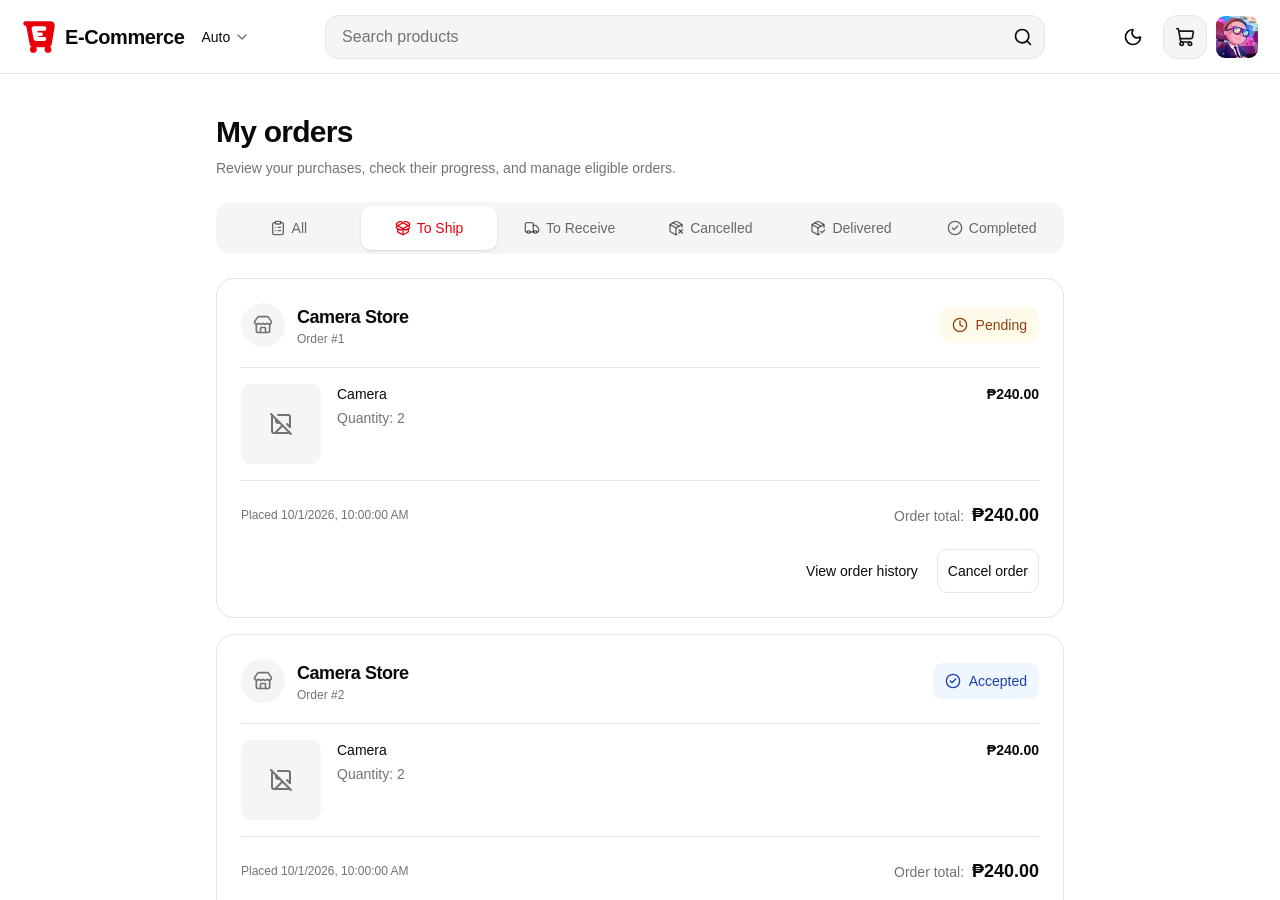
Scenario: cancellation requires confirmation, updates history and preserves order on dismiss
Click the button "Cancel order".
click(988, 571)  # box [937, 549, 1039, 593]
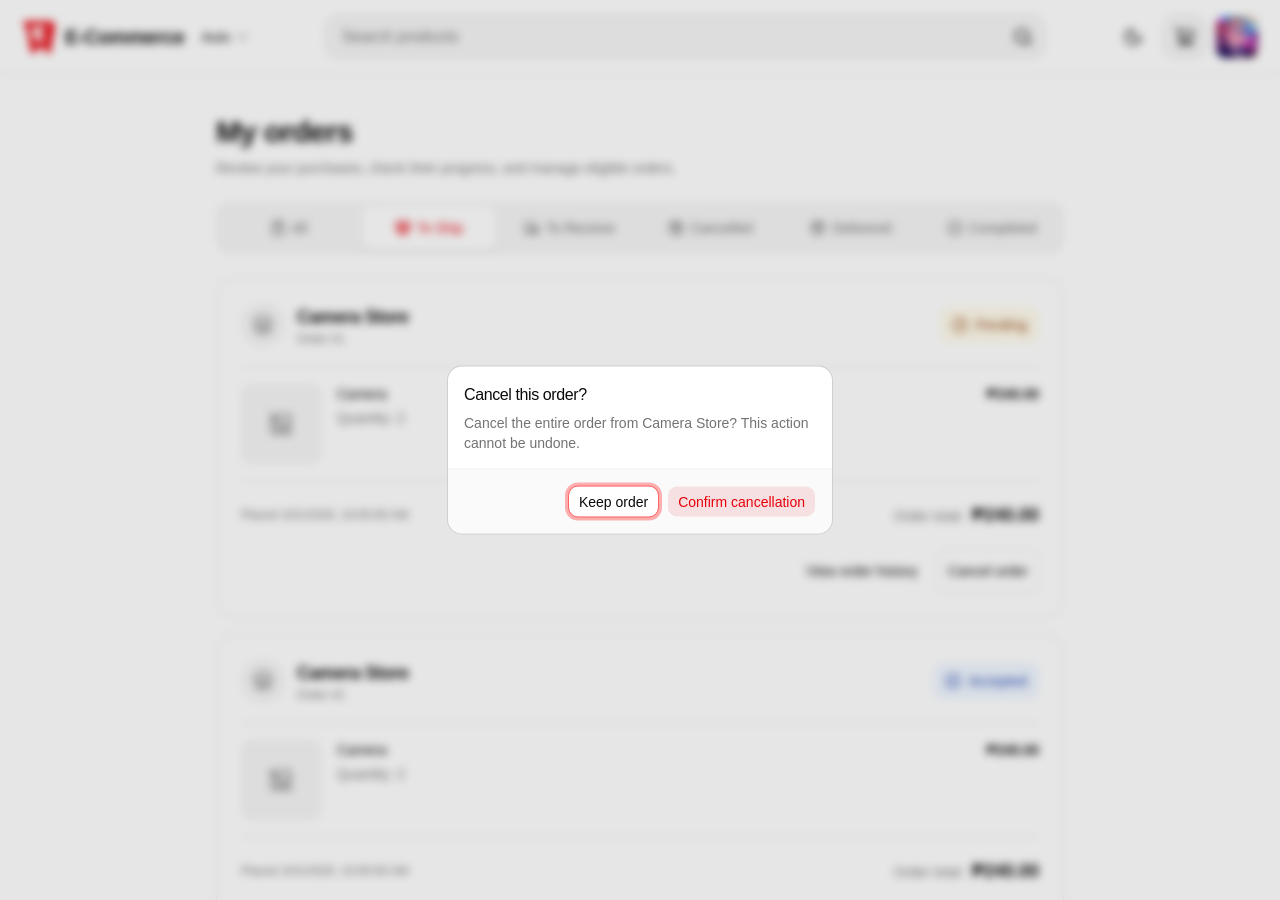
Click the button "Keep order".
click(614, 502)  # box [568, 486, 659, 518]
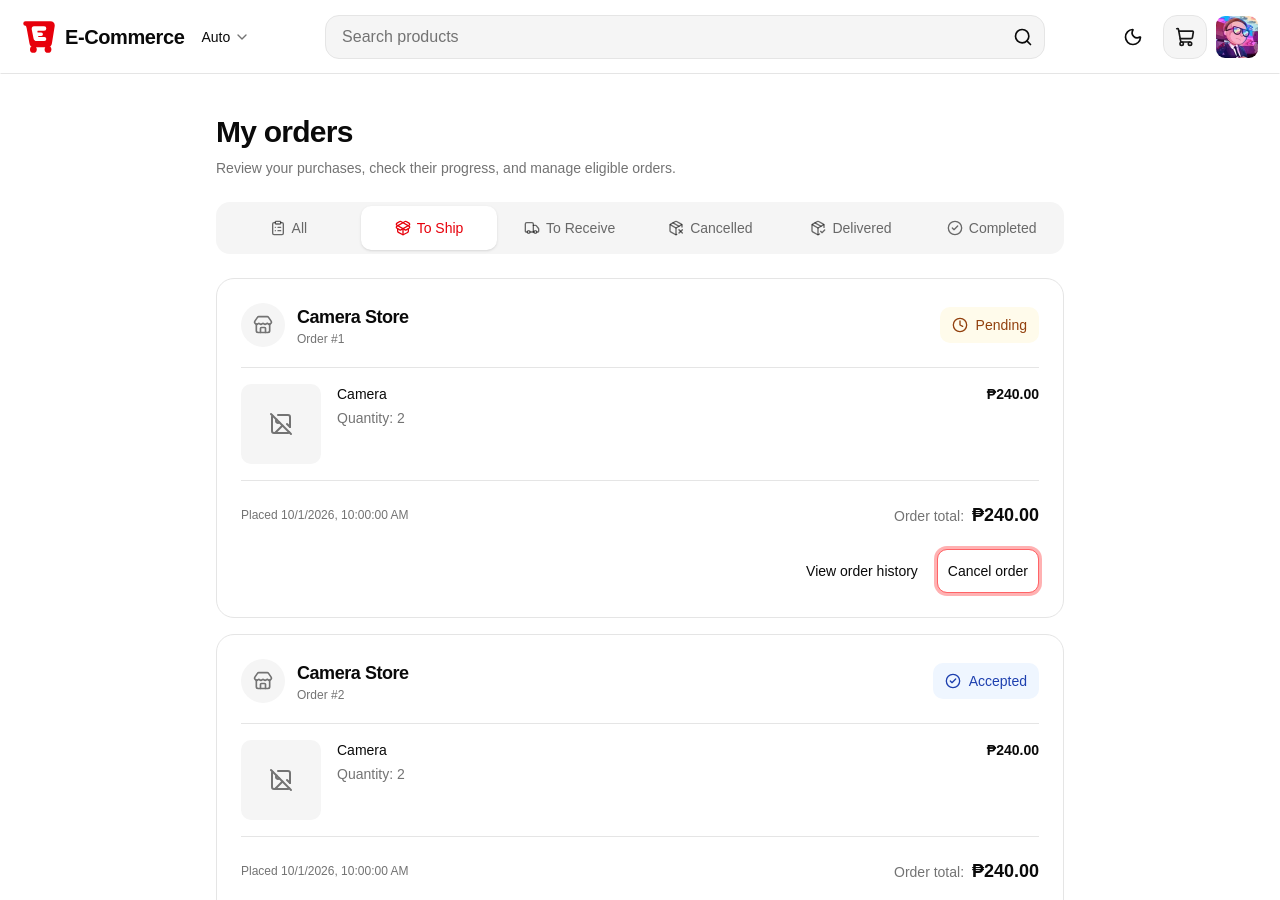
Click the button "Cancel order".
click(988, 571)  # box [937, 549, 1039, 593]
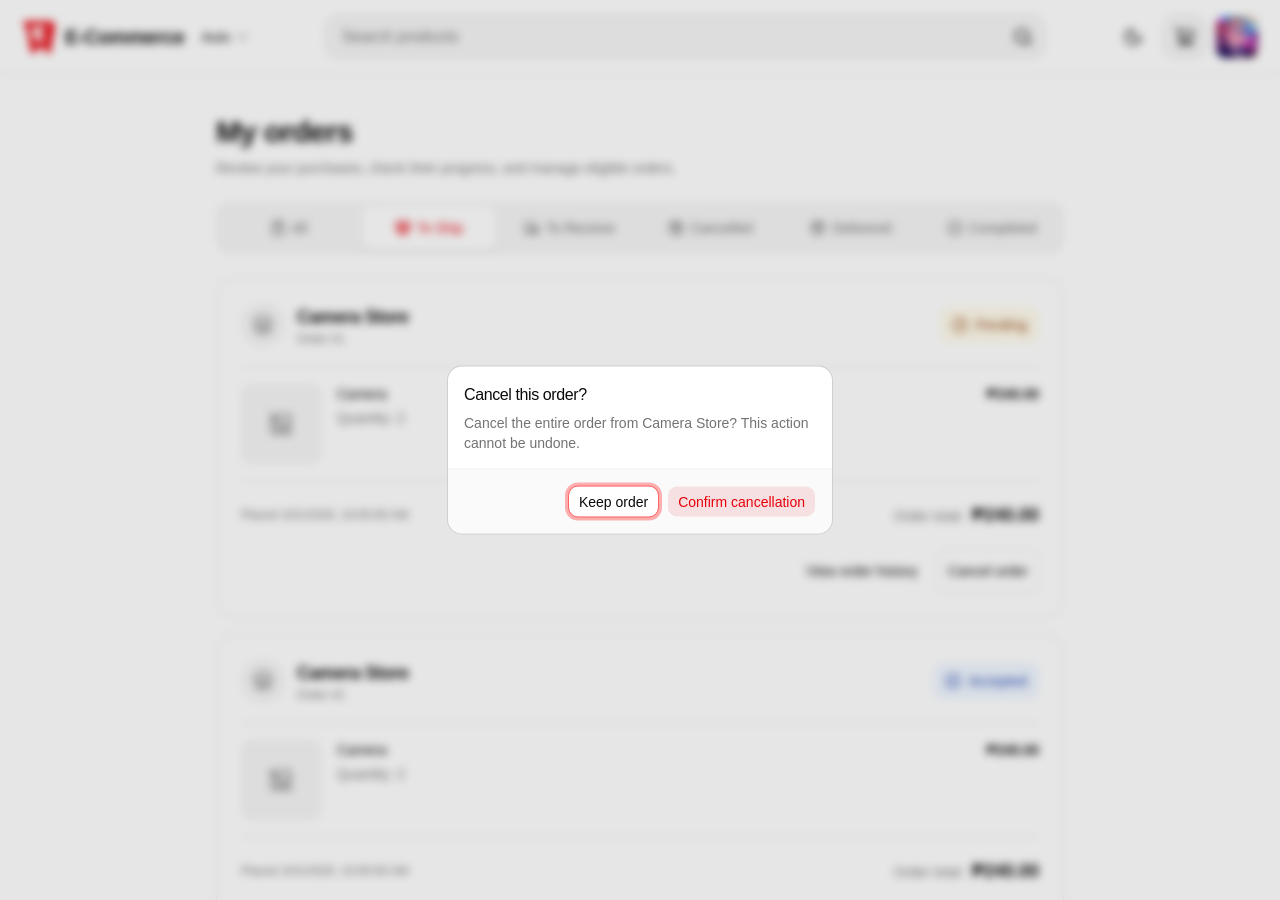
Click the button "Confirm cancellation".
click(742, 502)  # box [667, 486, 816, 518]
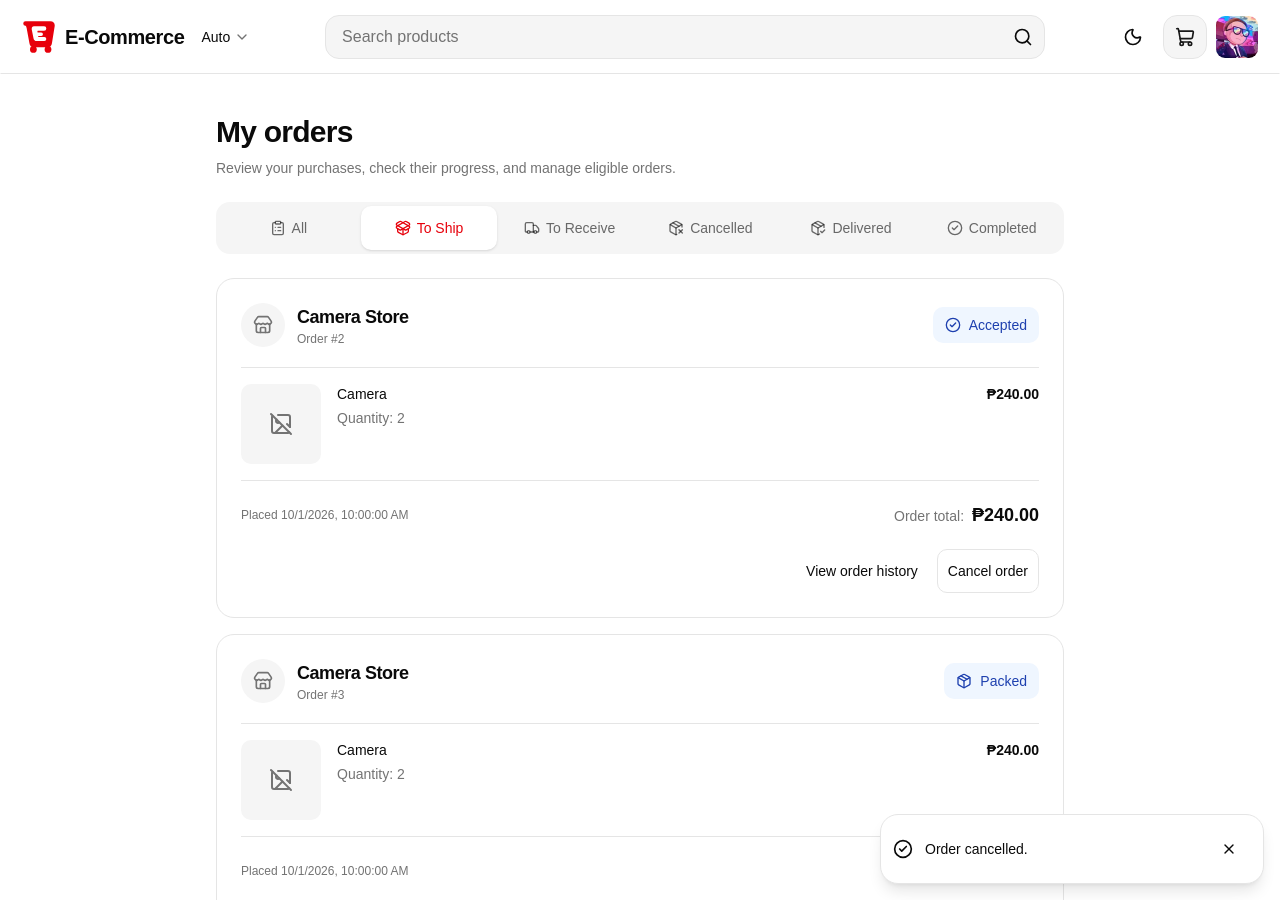
Expected: the text "Order cancelled." is shown, [880, 814, 1264, 884]
